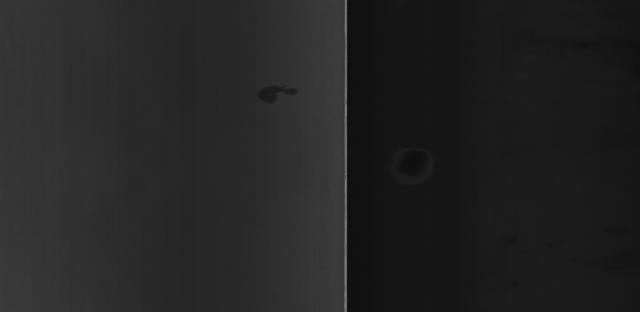oil_spot: (253, 78, 313, 113)
